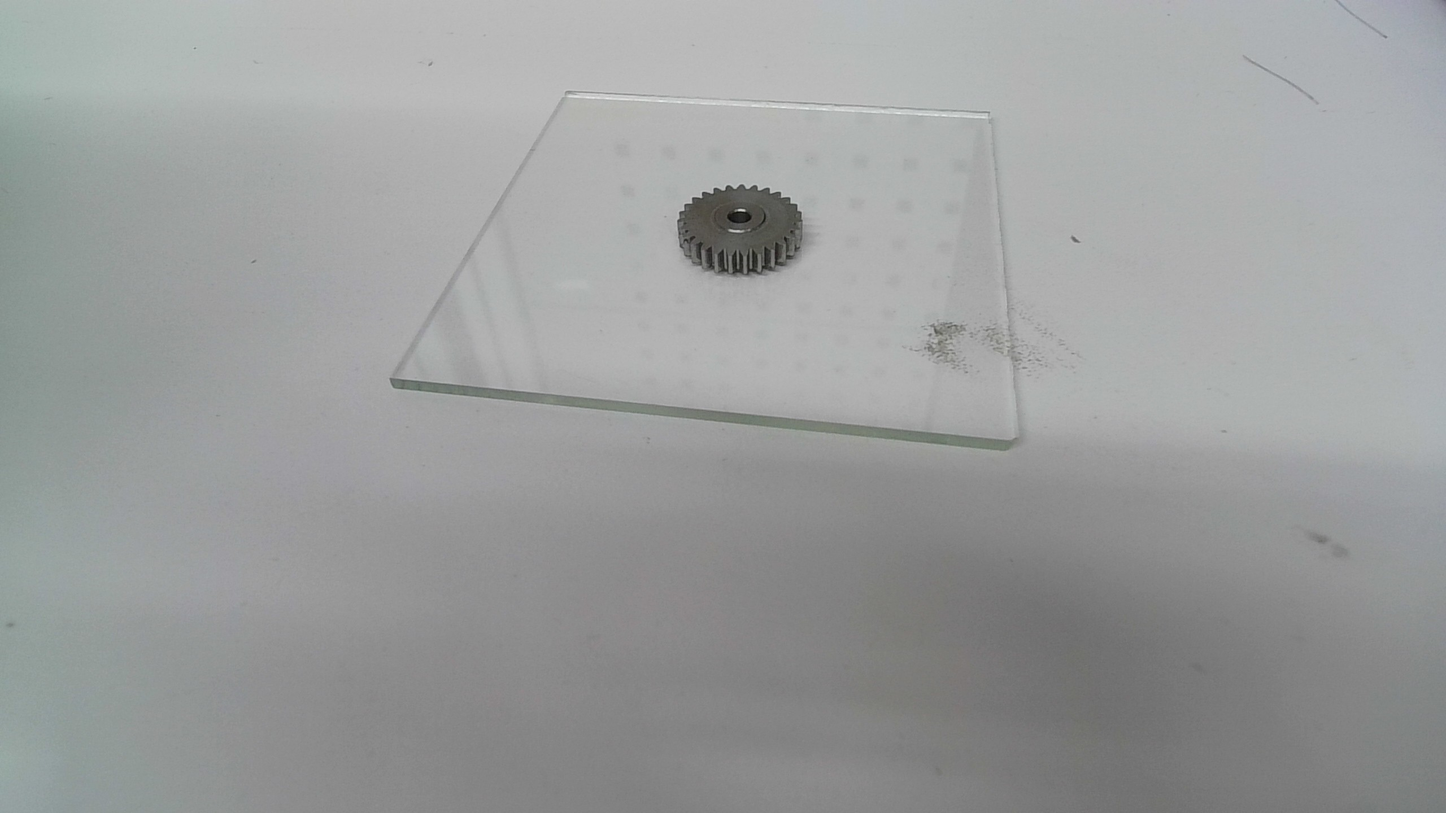gear: (675, 182, 807, 275)
